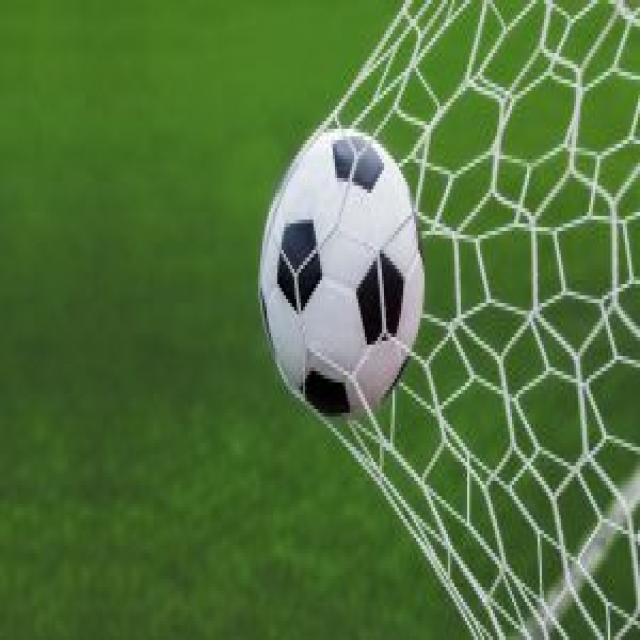soccer ball: (260, 132, 427, 420)
